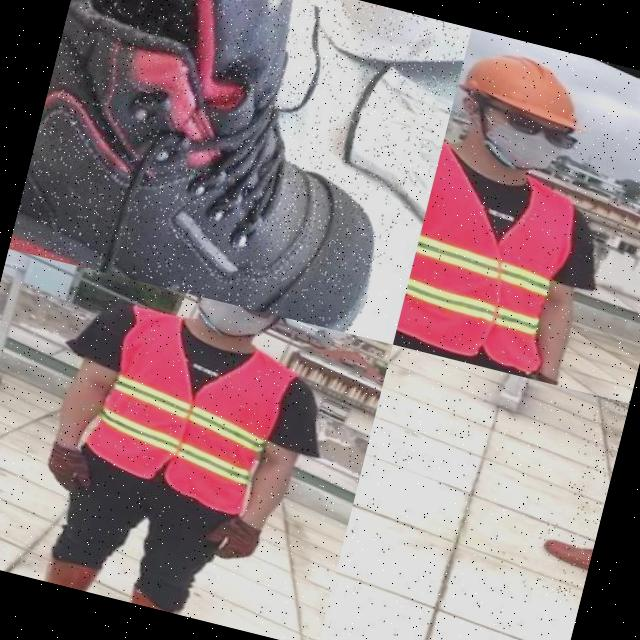boots: (8, 0, 471, 344), (538, 482, 606, 580), (17, 540, 102, 593)
helmet: (269, 0, 471, 107), (450, 28, 607, 145)
vest: (67, 293, 309, 525), (392, 136, 612, 386)
